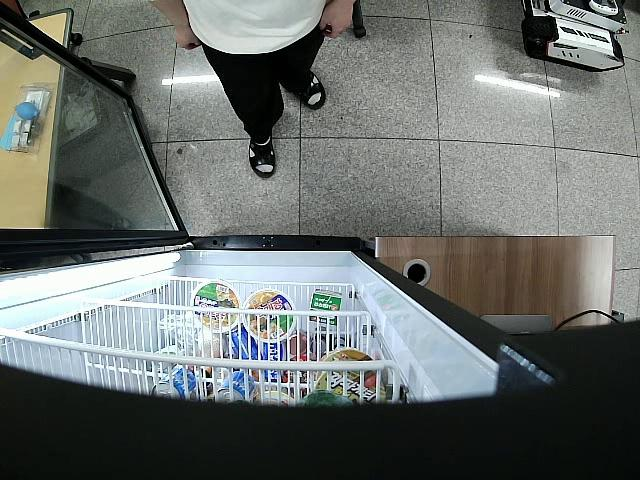00_hand: (317, 4, 353, 41)
